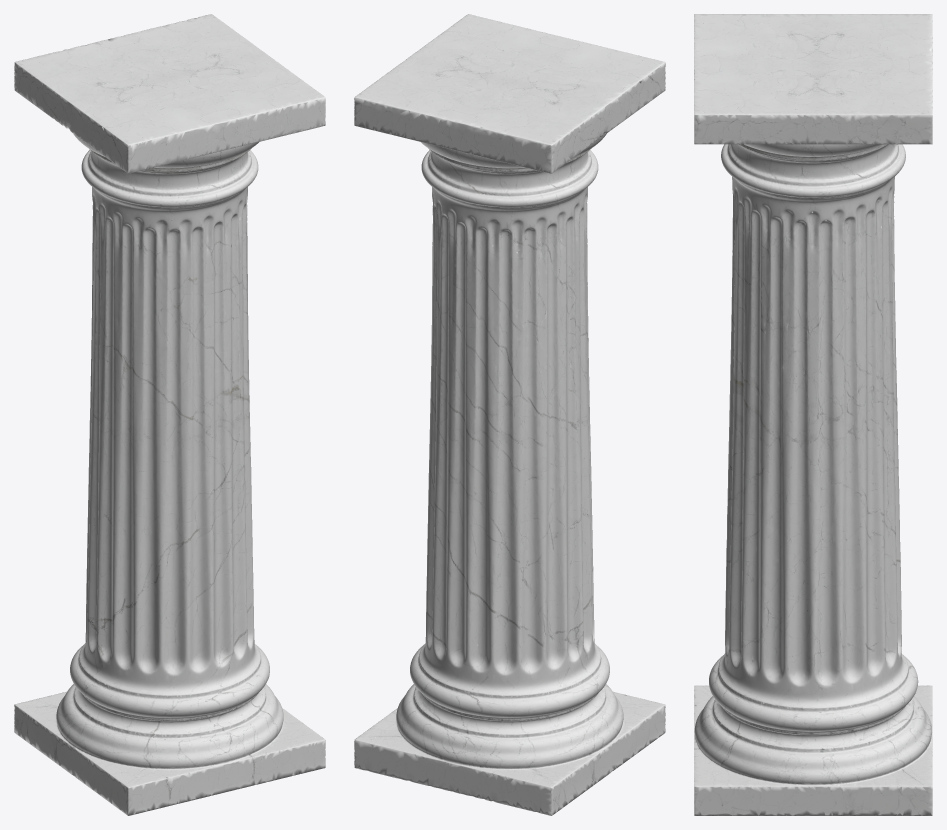
The model's file is fed-pillar.glb.
3 views of the same model, side by side, from view 1: azimuth 30°, elevation 25°; view 2: azimuth 150°, elevation 25°; view 3: azimuth 270°, elevation 25° (orthographic). The views are drawn at different scales.
Bounding box in the file's own units: 0.6164 × 2 × 0.6161.
Materials: 1 (1 with a texture image).
